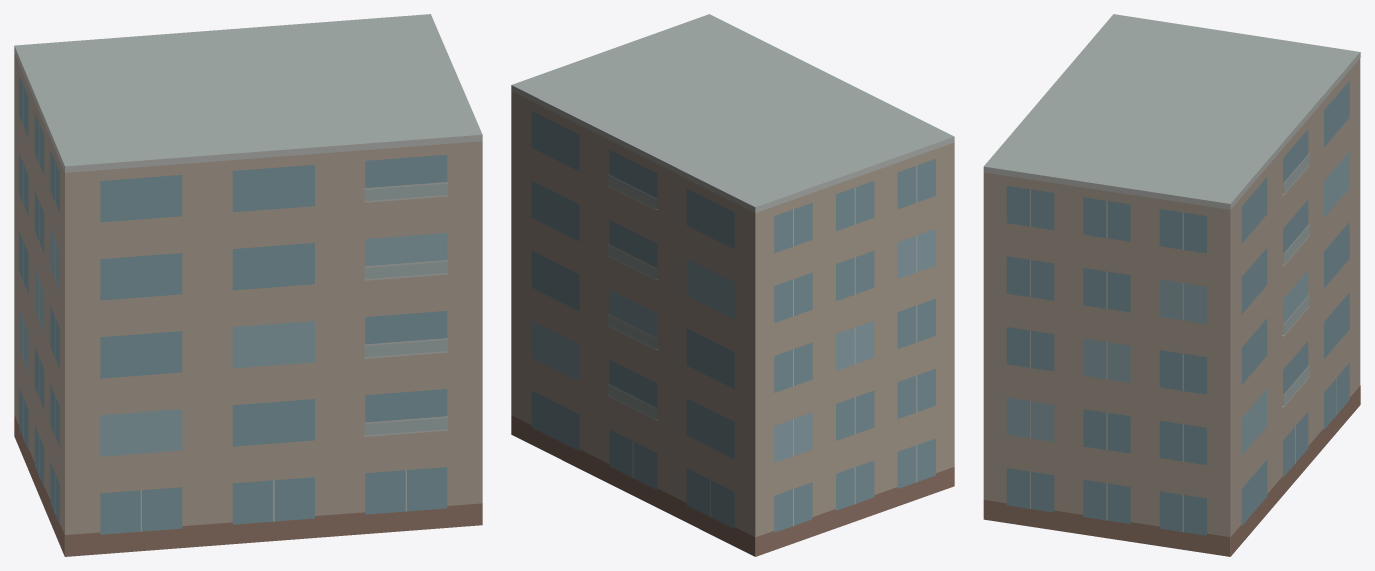
The model's file is survey-upis-32842093.glb.
The picture shows the model from 3 angles, left to right: view 1: azimuth 30°, elevation 25°; view 2: azimuth 150°, elevation 25°; view 3: azimuth 270°, elevation 25°; orthographic projection. The views are drawn at different scales.
Parts seen in each view (by area): view 1: survey-upis-32842093.tmp; view 2: survey-upis-32842093.tmp; view 3: survey-upis-32842093.tmp.
Part boxes in pixels (<box>): survey-upis-32842093.tmp: <box>14,14,482,556</box>; survey-upis-32842093.tmp: <box>511,14,954,556</box>; survey-upis-32842093.tmp: <box>983,14,1360,556</box>.
Size of the model in its own units: 16.92 by 14.65 by 14.19.
